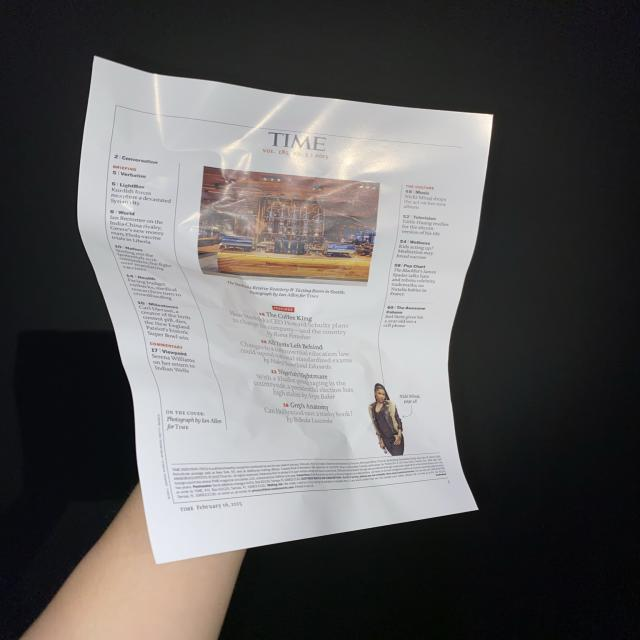document: (78, 58, 492, 562)
